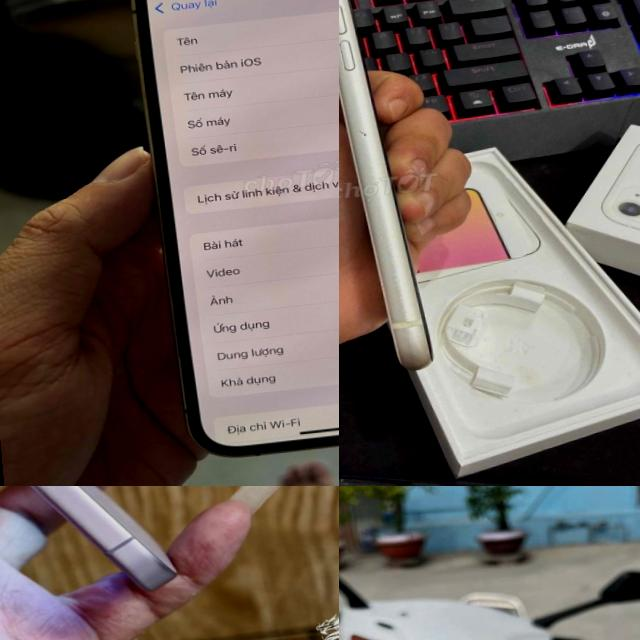scratch: (348, 120, 388, 154)
